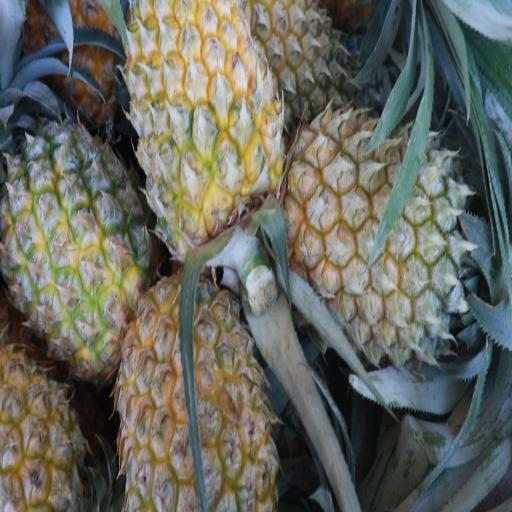------------------------------: (118, 265, 271, 512)
Pineapple - v8 v1: (130, 0, 284, 239), (4, 121, 150, 369), (0, 364, 85, 512)
